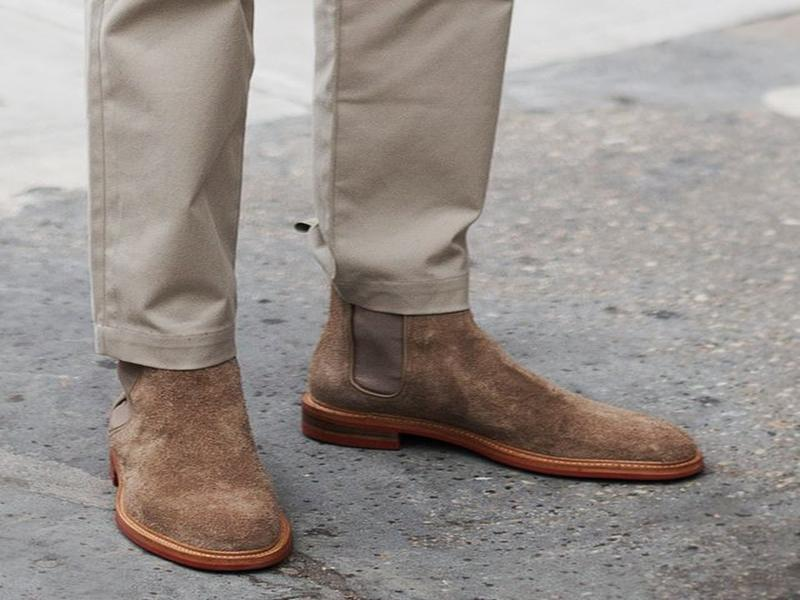shoes_men_chelsea_chelseaboots_suede_none_none_brown_none: (293, 291, 748, 494), (85, 345, 308, 575)
